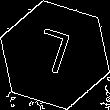L_S: (32, 26, 78, 84)
